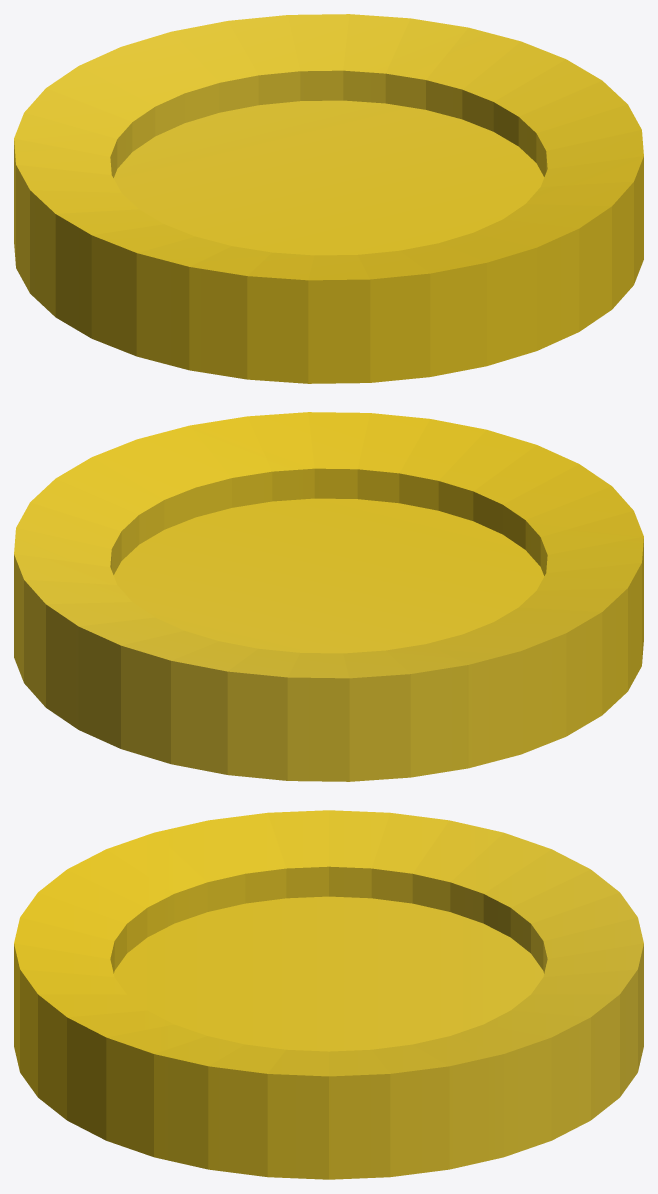
File: Coin.fbx
3 renders of one model, top to bottom at view 1: azimuth 30°, elevation 25°; view 2: azimuth 150°, elevation 25°; view 3: azimuth 270°, elevation 25°, orthographic.
Parts seen in each view (by area): view 1: Coin; view 2: Coin; view 3: Coin.
Part boxes in pixels (x1,y1,x2,y2): Coin: [14, 14, 643, 383]; Coin: [14, 412, 643, 781]; Coin: [14, 810, 643, 1179].
Bounding box in the file's own units: 11.55 × 2.09 × 11.55.
